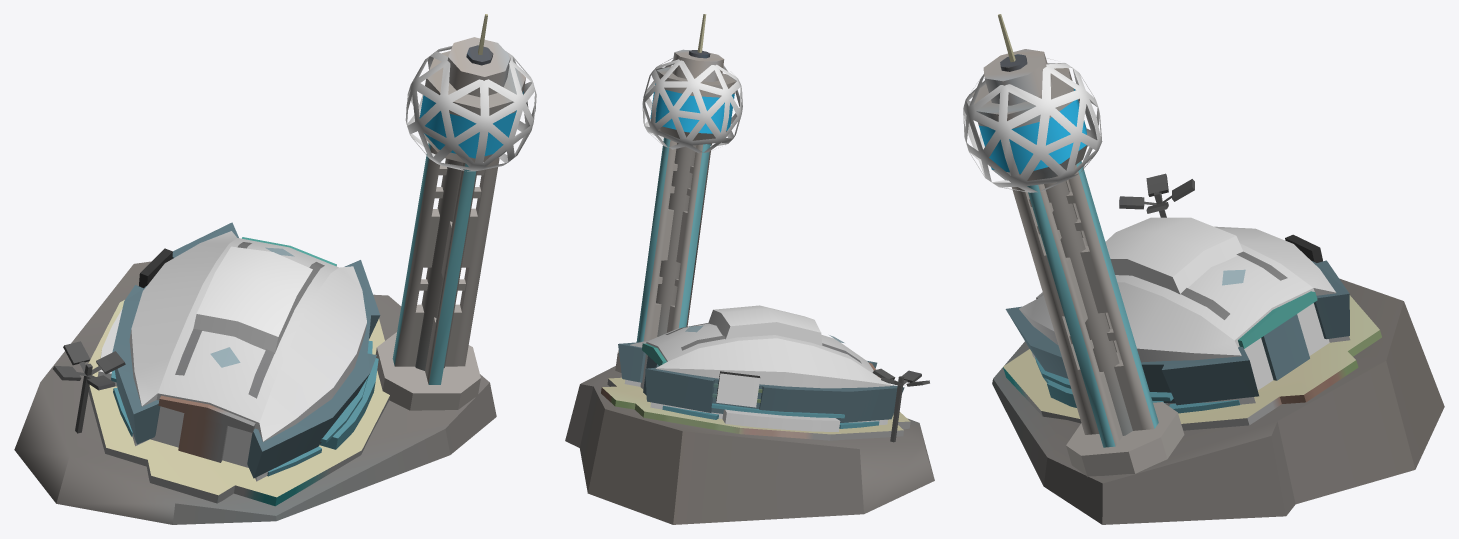
Rendered from DALLAS_lv01.fbx.
The picture shows the model from 3 angles, left to right: view 1: azimuth 30°, elevation 25°; view 2: azimuth 150°, elevation 25°; view 3: azimuth 270°, elevation 25°; orthographic projection. The views are drawn at different scales.
Visible parts, largest first — view 1: DALLAS_lv01; view 2: DALLAS_lv01; view 3: DALLAS_lv01.
Part boxes in pixels (bbox=[...]): DALLAS_lv01: bbox=[14, 14, 536, 524]; DALLAS_lv01: bbox=[565, 14, 934, 524]; DALLAS_lv01: bbox=[963, 14, 1444, 524].
Size of the model in its own units: 8958 by 9228 by 8386.
